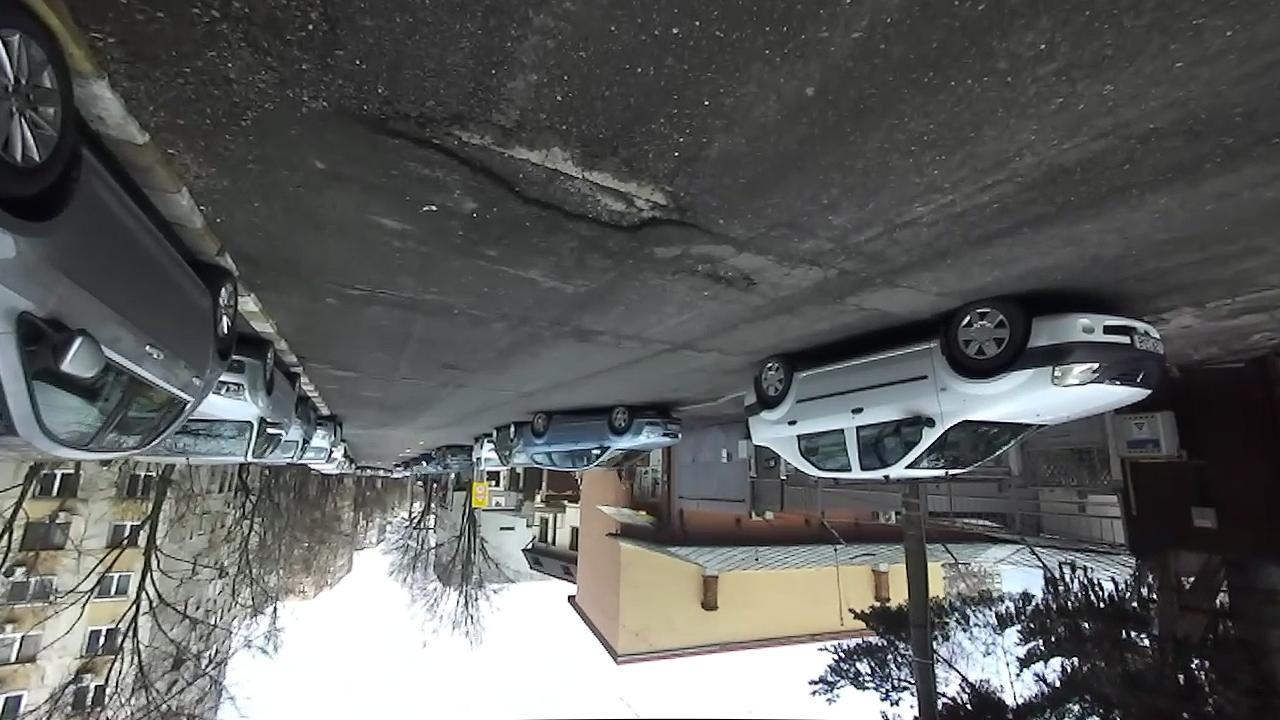pothole: (347, 104, 730, 240), (672, 256, 764, 298)
